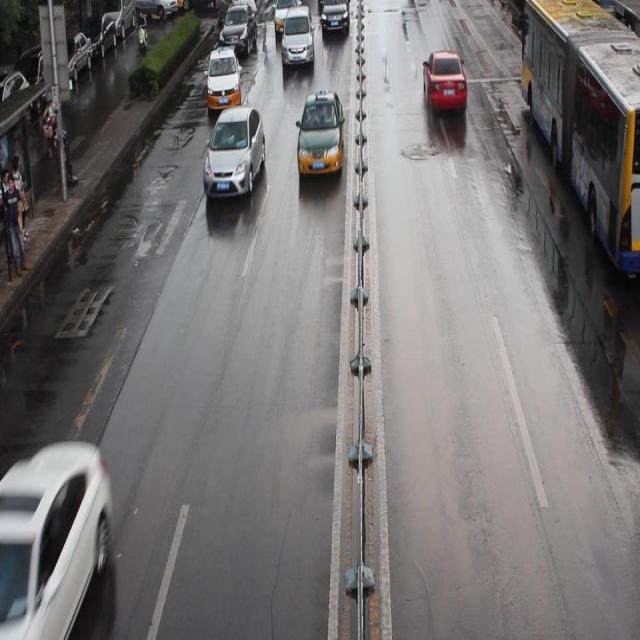car: (0, 439, 112, 640), (202, 106, 265, 199), (296, 92, 343, 174), (422, 49, 466, 112), (205, 48, 242, 112), (217, 1, 257, 55), (320, 1, 349, 32), (272, 1, 300, 31), (211, 1, 257, 17)
truck: (281, 8, 314, 66)
van: (520, 1, 640, 271)
